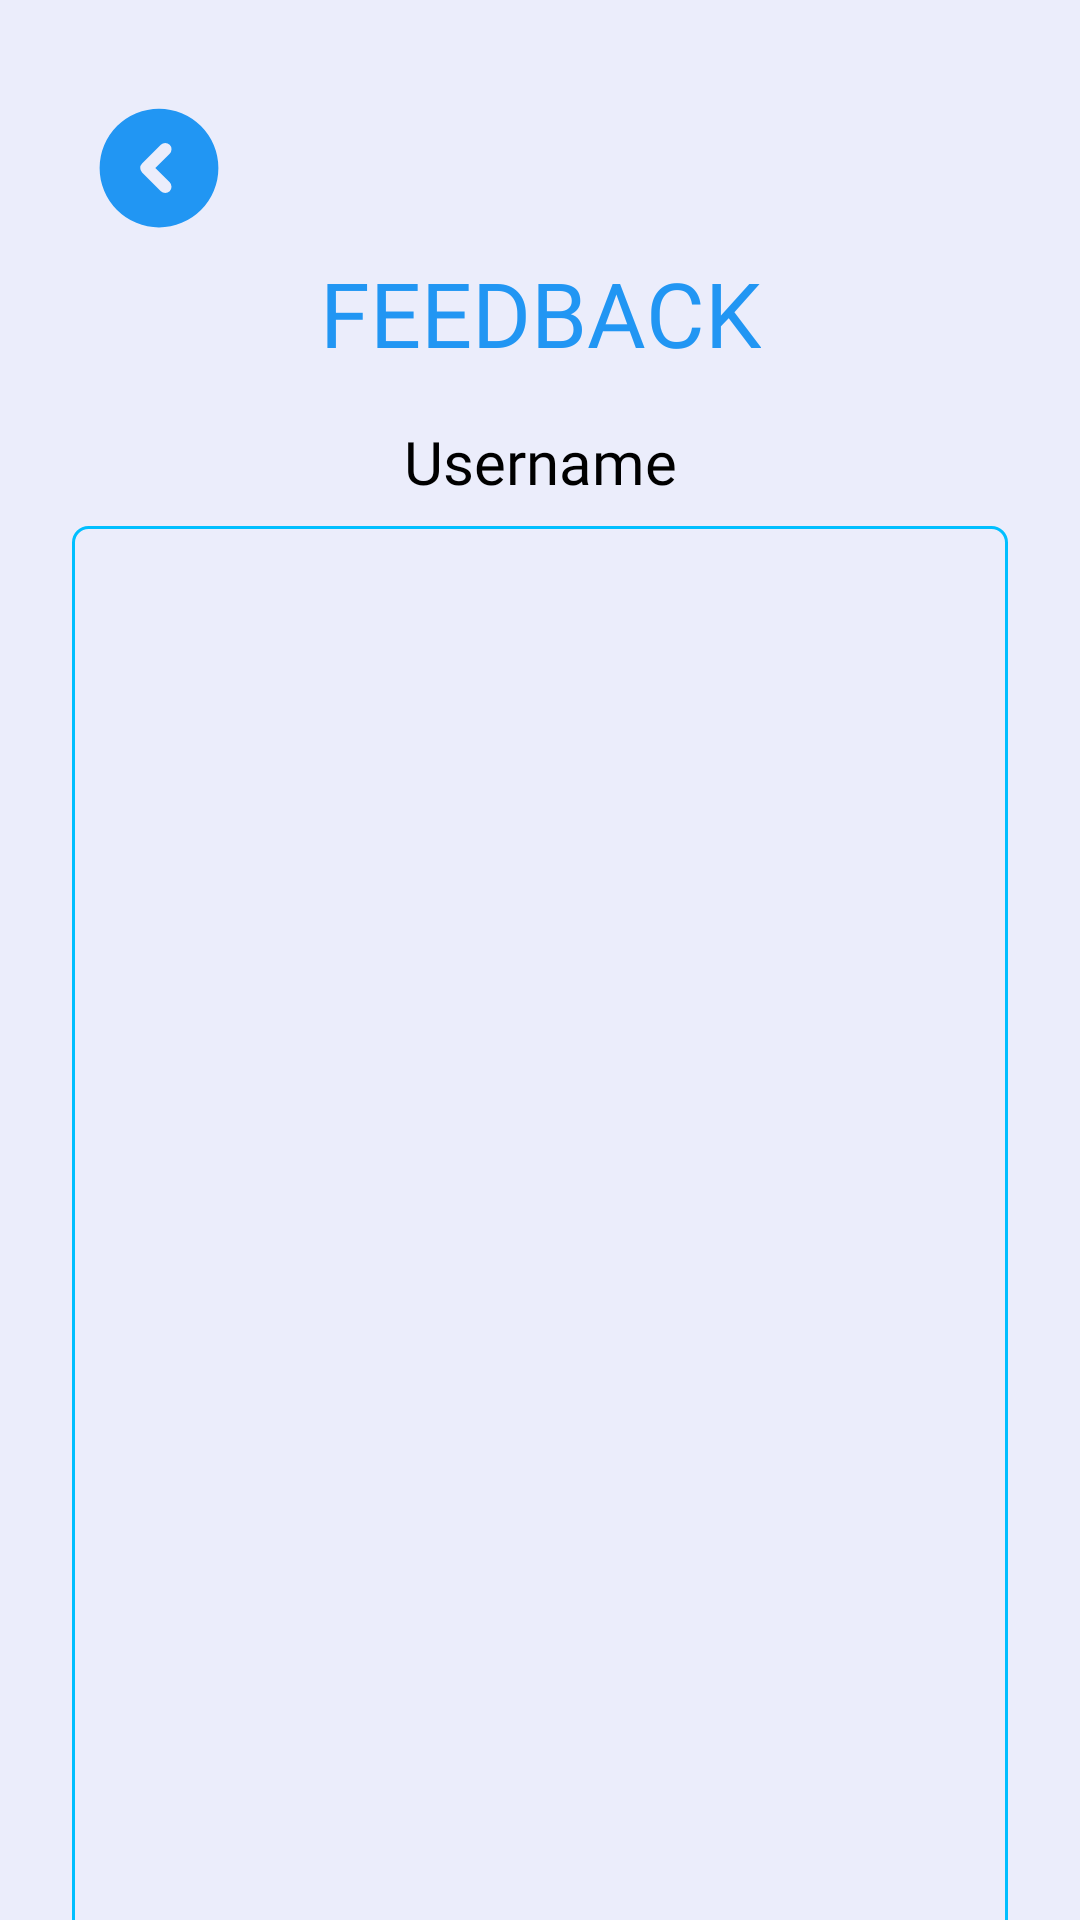

Icons on this 1080*1920 Android screen, each with its box as (x1, y1, x2, y2):
backbutton: (99, 108, 219, 228)
